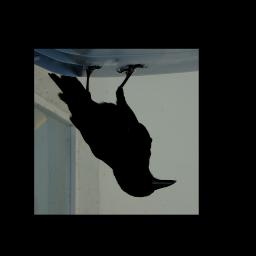Crow: (49, 62, 179, 198)
